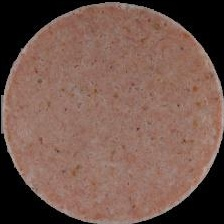0904-6486: (0, 0, 224, 224)
